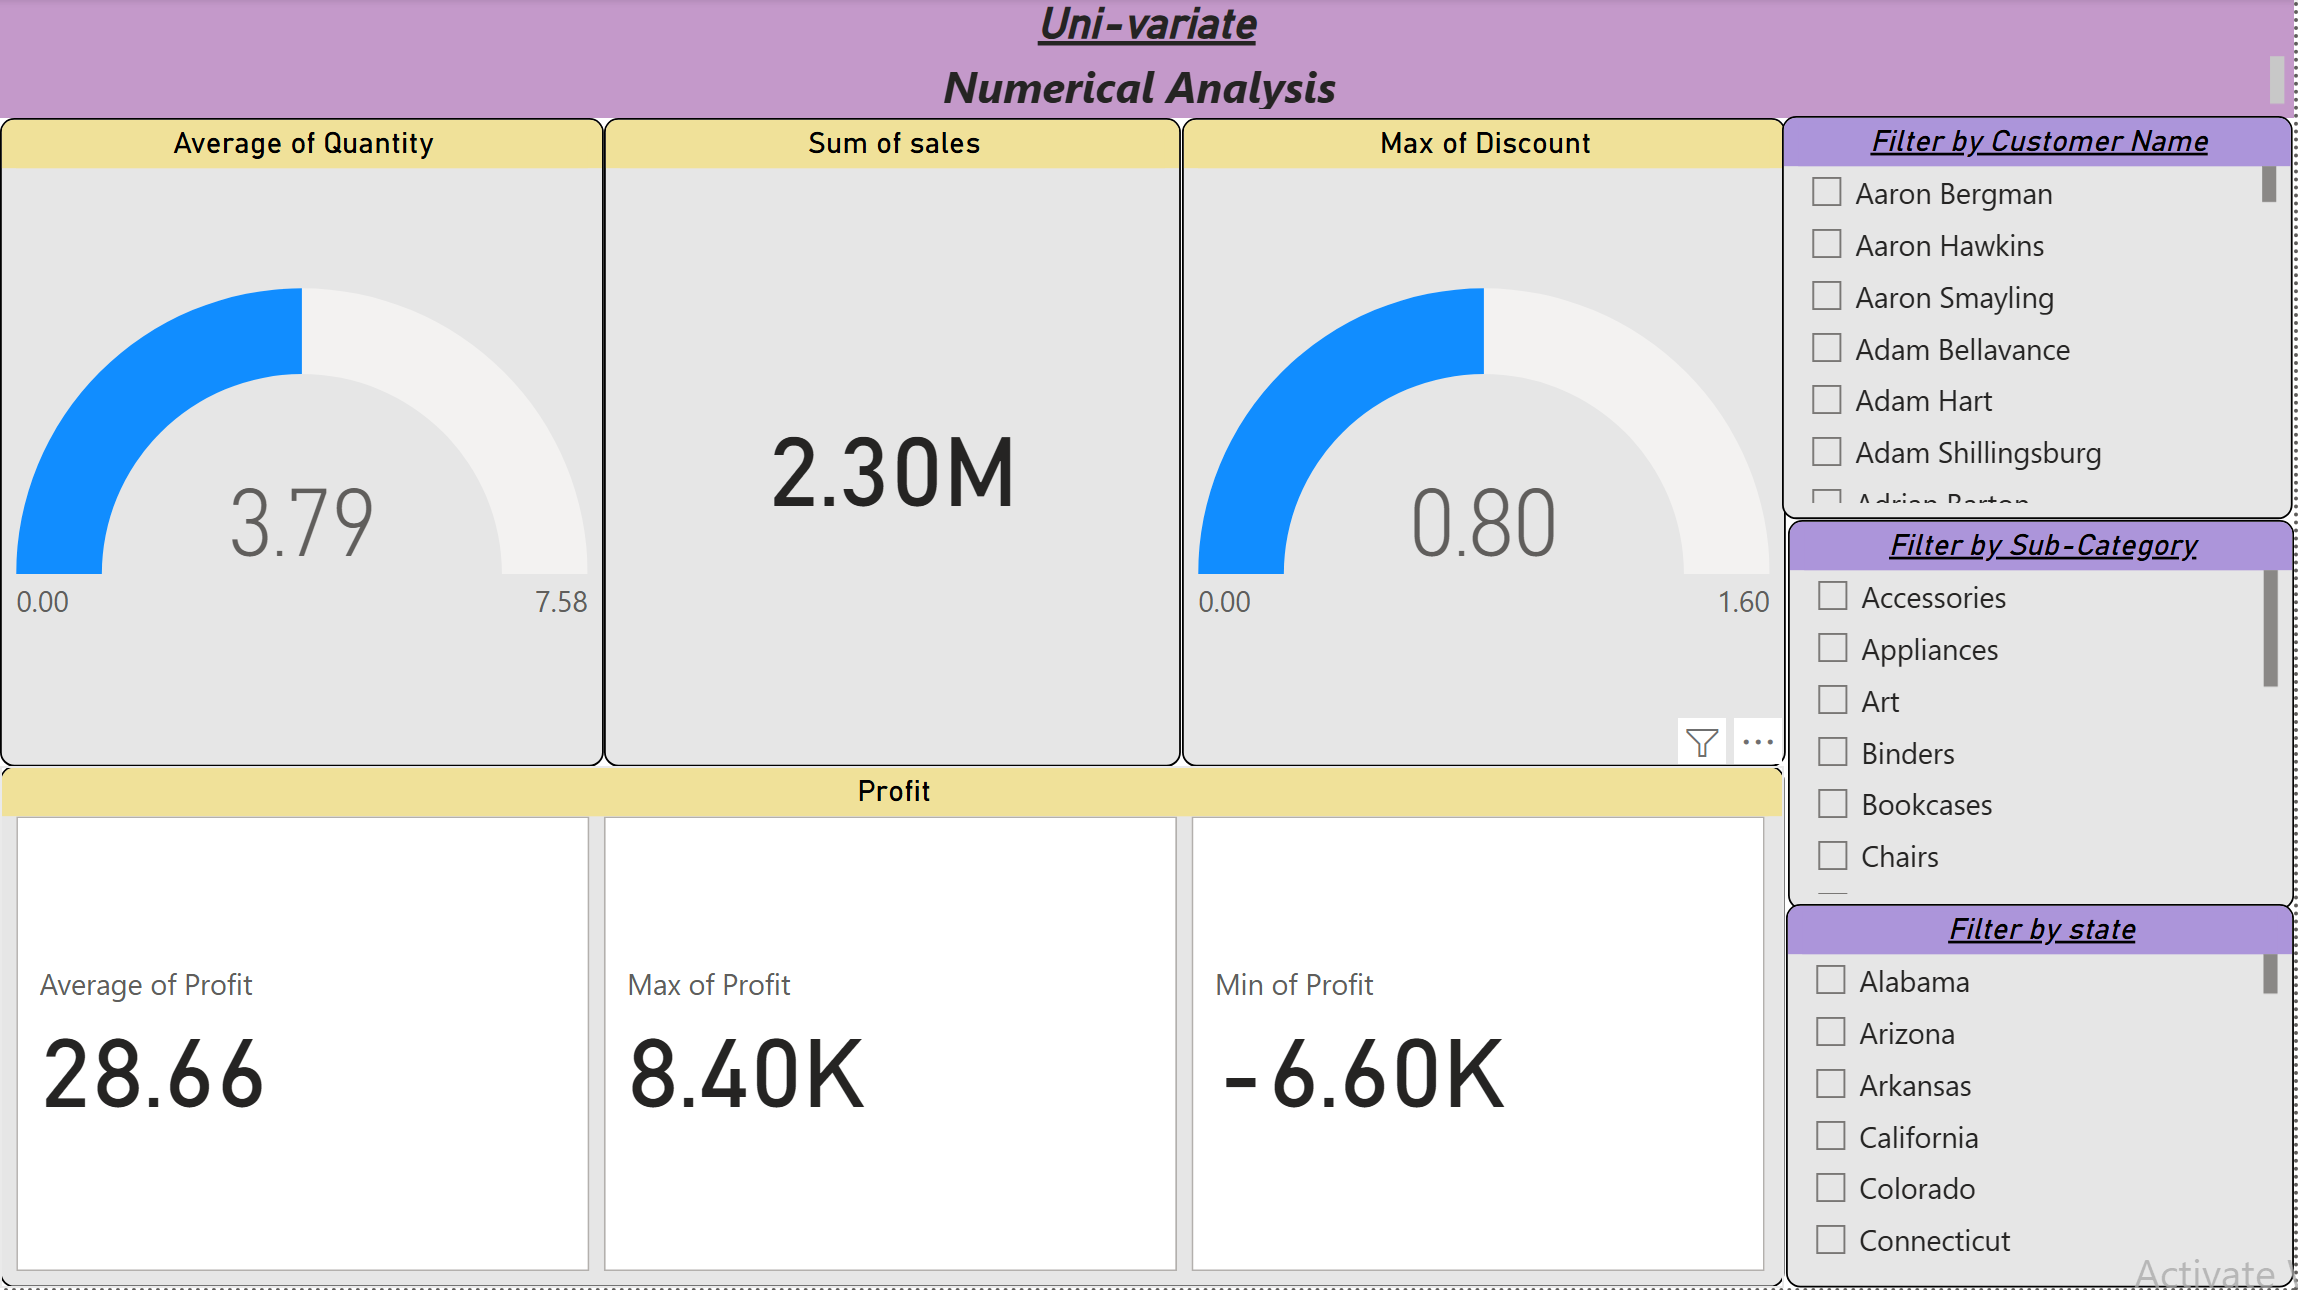

This screenshot's page, from the dashboard's own definition file:
{"tool":"powerbi","page":{"name":"Uni-variate","canvas":[1280,720],"ordinal":1},"visuals":[{"type":"textbox","title":"Uni-variate","box":[0,0,1280,66.5],"z":0},{"type":"gauge","fields":{"Y":["Avg(Superstore.Quantity)"]},"box":[0,66.5,337,362.1],"z":1000},{"type":"gauge","fields":{"Y":["Max(Superstore.Discount)"]},"box":[659.2,66.5,337,362.1],"z":2000},{"type":"card","title":"Sum of sales","fields":{"Values":["Sum(Superstore.Sales)"]},"box":[337,66.5,322.2,362.1],"z":3000},{"type":"cardVisual","title":"Profit","fields":{"Data":["Avg(Superstore.Profit)","Max(Superstore.Profit)","Min(Superstore.Profit)"]},"box":[0,428.6,996.2,291.2],"z":7000},{"type":"slicer","title":"Filter by Sub-Category","fields":{"Values":["Superstore.Sub-Category"]},"box":[997.7,291.2,282.3,217.3],"z":7001},{"type":"slicer","title":"Filter by Customer Name","fields":{"Values":["Superstore.Customer Name"]},"box":[995,66.2,285,224.9],"z":7002},{"type":"slicer","title":"Filter by state","fields":{"Values":["Superstore.State"]},"box":[996.6,505.9,283.4,214.1],"z":7003}]}

Visuals, with their boxes in screenshot pixels (x1, y1, x2, y2), scaled from the page's 1280x720 canvas onto the 2298x1290 screenshot:
"Uni-variate" textbox: {"left": 0, "top": 0, "right": 2297, "bottom": 119}
gauge - Avg(Superstore.Quantity): {"left": 0, "top": 119, "right": 605, "bottom": 768}
gauge - Max(Superstore.Discount): {"left": 1183, "top": 119, "right": 1788, "bottom": 768}
"Sum of sales" card: {"left": 605, "top": 119, "right": 1183, "bottom": 768}
"Profit" cardVisual: {"left": 0, "top": 768, "right": 1788, "bottom": 1289}
"Filter by Sub-Category" slicer: {"left": 1791, "top": 522, "right": 2297, "bottom": 911}
"Filter by Customer Name" slicer: {"left": 1786, "top": 119, "right": 2297, "bottom": 522}
"Filter by state" slicer: {"left": 1789, "top": 906, "right": 2297, "bottom": 1289}
